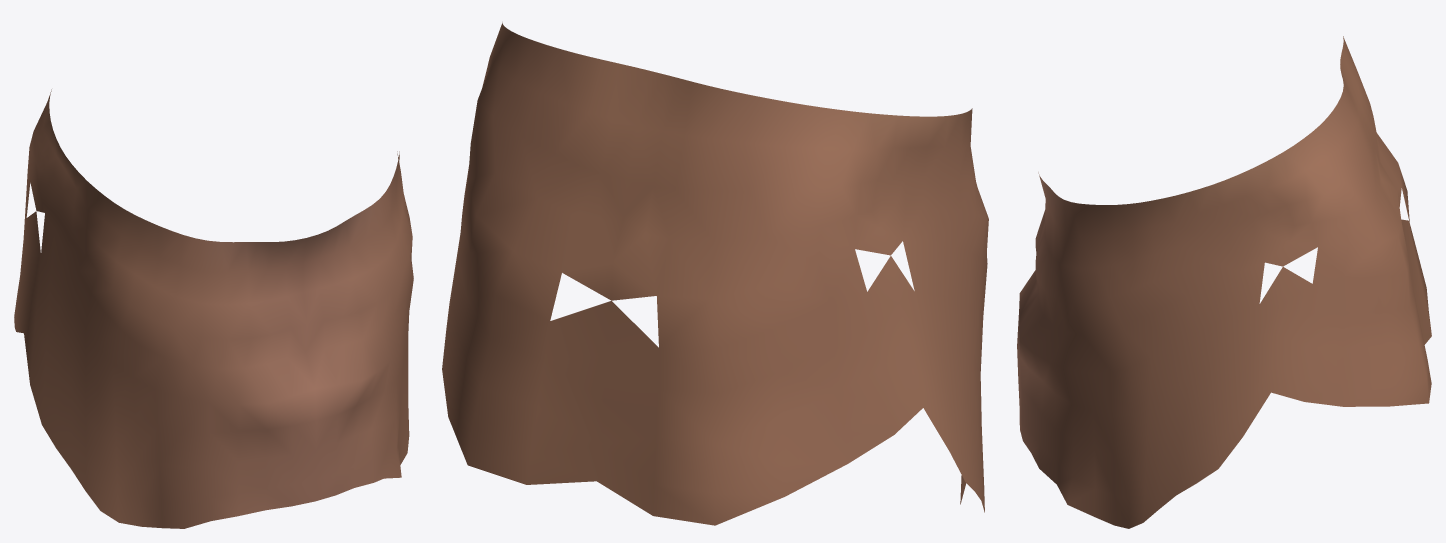
Rendered from aletheia_neck_v2_under_the_open_zip.glb.
The picture shows the model from 3 angles, left to right: view 1: azimuth 30°, elevation 25°; view 2: azimuth 150°, elevation 25°; view 3: azimuth 270°, elevation 25°; orthographic projection. The views are drawn at different scales.
Visible parts, largest first — view 1: neck; view 2: neck; view 3: neck.
Part boxes in pixels (left/top/right/bottom): neck: left=14, top=89, right=413, bottom=528; neck: left=442, top=22, right=988, bottom=525; neck: left=1017, top=36, right=1431, bottom=528.
Bounding box in the file's own units: 0.1186 × 0.1234 × 0.1169.
